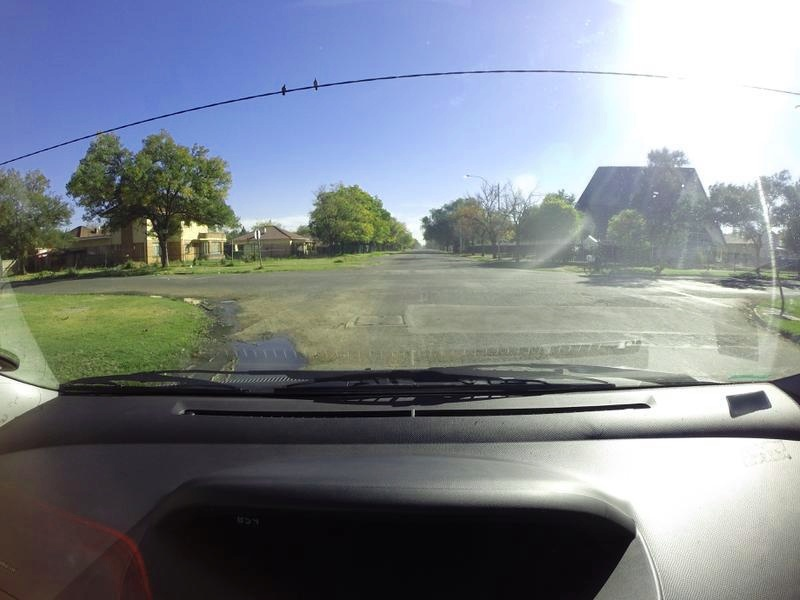pothole: (229, 327, 307, 378)
